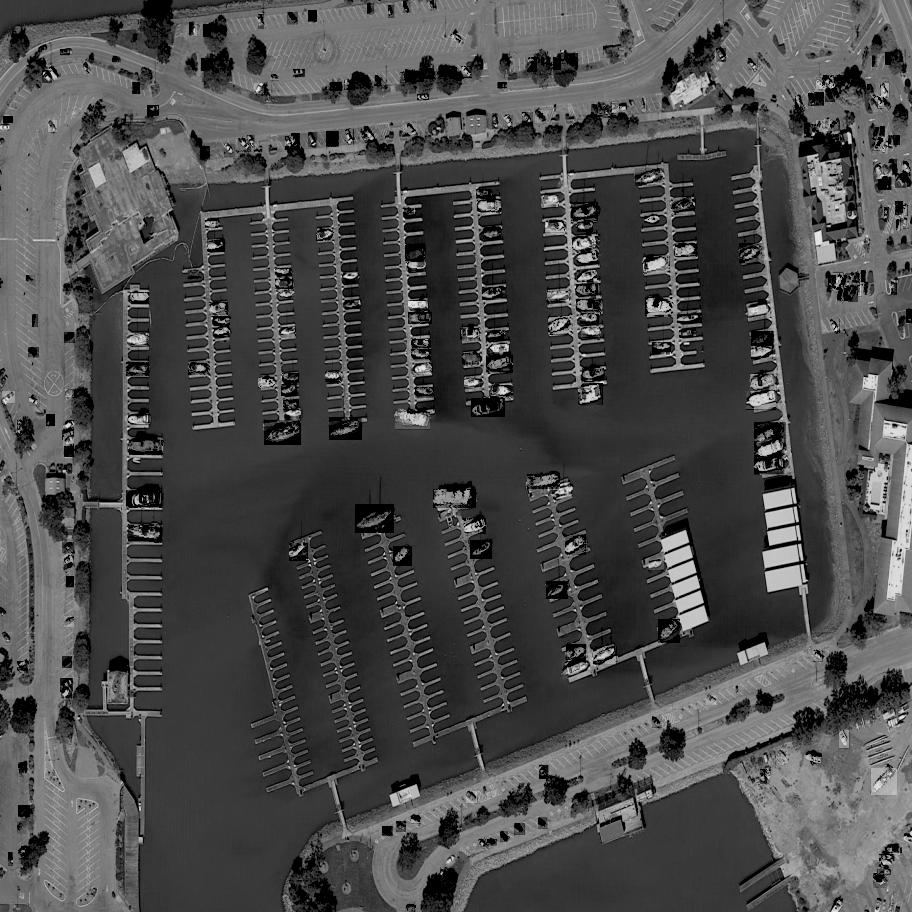large-vehicle: (603, 46, 623, 58), (41, 70, 54, 84), (62, 420, 76, 433), (61, 687, 74, 700), (49, 67, 60, 82), (62, 430, 76, 440), (29, 398, 40, 406)
ship: (354, 504, 397, 535), (264, 420, 302, 446), (329, 417, 364, 441), (754, 422, 787, 447), (433, 489, 476, 508), (870, 767, 898, 795), (470, 398, 506, 418), (128, 524, 163, 544), (755, 438, 786, 460), (126, 490, 163, 508), (395, 411, 430, 430), (746, 392, 779, 411), (738, 243, 765, 265), (634, 168, 665, 187), (560, 660, 591, 679), (645, 297, 674, 317), (657, 620, 682, 643), (579, 384, 604, 407), (754, 458, 786, 475), (571, 203, 599, 222), (642, 256, 670, 275), (486, 355, 514, 374), (469, 540, 495, 560), (593, 646, 618, 666), (547, 316, 573, 335), (526, 475, 561, 489), (750, 375, 777, 393), (572, 236, 599, 254), (565, 536, 588, 556), (464, 518, 489, 536), (563, 645, 589, 662), (393, 547, 414, 568), (545, 581, 569, 599), (671, 197, 695, 215), (751, 332, 774, 350), (129, 441, 162, 453), (288, 543, 310, 561), (405, 245, 427, 262), (675, 243, 698, 259), (127, 362, 151, 376), (127, 333, 149, 348), (408, 312, 432, 324), (490, 386, 512, 399), (209, 303, 229, 317), (316, 228, 336, 242), (478, 200, 501, 212), (577, 270, 598, 283), (482, 287, 503, 300), (872, 873, 889, 889), (751, 347, 773, 359), (576, 300, 600, 311), (188, 364, 210, 376), (652, 343, 672, 356), (207, 240, 227, 253), (483, 228, 502, 241), (460, 328, 480, 340), (577, 252, 598, 263), (541, 195, 560, 207), (582, 369, 604, 379), (411, 350, 431, 361), (281, 385, 299, 397), (415, 364, 433, 376), (275, 279, 294, 290), (462, 353, 481, 364), (804, 754, 823, 765), (839, 730, 850, 749), (677, 314, 700, 323), (279, 289, 296, 301), (214, 327, 231, 339), (581, 314, 599, 325), (487, 330, 505, 341), (416, 388, 434, 399), (578, 220, 594, 232), (582, 328, 601, 338), (130, 292, 149, 302), (548, 292, 569, 301), (283, 400, 300, 411), (283, 374, 300, 385), (777, 749, 790, 763), (577, 285, 597, 294), (546, 222, 564, 232), (129, 415, 149, 424), (258, 378, 276, 388), (412, 340, 430, 350), (648, 561, 665, 571), (464, 379, 480, 389), (213, 317, 230, 326), (490, 345, 509, 353), (326, 372, 341, 382), (477, 190, 491, 200), (880, 860, 894, 870), (409, 301, 426, 309), (345, 300, 360, 309), (407, 263, 426, 270), (343, 273, 358, 281), (645, 215, 659, 223), (281, 328, 295, 336), (879, 855, 895, 862), (285, 411, 302, 417), (205, 220, 217, 228), (761, 769, 767, 784), (679, 331, 693, 337), (877, 869, 891, 875), (886, 848, 902, 853), (275, 270, 290, 275), (404, 208, 414, 214), (767, 767, 770, 779)
small-vehicle: (325, 131, 340, 147), (2, 391, 17, 406), (450, 33, 466, 47), (60, 678, 76, 692), (363, 126, 377, 142), (238, 138, 252, 153), (881, 97, 895, 112), (848, 285, 860, 302), (833, 273, 845, 290), (62, 542, 76, 556), (895, 174, 908, 189), (534, 110, 549, 123), (199, 146, 213, 159), (591, 105, 604, 119), (521, 112, 534, 126), (465, 791, 479, 804), (308, 133, 320, 148), (829, 319, 841, 334), (716, 48, 728, 63), (291, 134, 301, 151), (287, 12, 300, 25), (823, 76, 836, 89), (813, 92, 826, 105), (404, 70, 417, 83), (62, 656, 75, 669), (0, 633, 13, 646), (18, 805, 31, 818), (651, 716, 664, 729), (882, 163, 894, 177), (824, 88, 836, 102), (405, 124, 419, 136), (846, 273, 857, 288), (876, 164, 886, 180), (888, 160, 898, 176), (224, 145, 236, 158), (254, 83, 266, 96), (883, 177, 895, 190), (17, 822, 29, 835), (18, 846, 30, 859), (460, 67, 473, 79), (536, 818, 549, 830), (444, 854, 457, 866), (147, 105, 161, 116), (816, 78, 830, 89), (869, 99, 880, 113), (828, 121, 839, 135), (63, 333, 77, 344), (539, 765, 550, 779), (345, 129, 354, 146), (329, 82, 344, 92), (829, 77, 841, 89), (813, 650, 825, 662), (603, 107, 615, 119), (514, 824, 526, 836), (874, 97, 885, 110), (831, 88, 842, 101), (63, 616, 76, 627), (395, 821, 408, 832), (810, 125, 820, 139), (796, 96, 806, 110), (705, 695, 719, 705), (528, 58, 537, 73), (433, 878, 442, 893), (47, 121, 58, 133), (308, 10, 319, 22), (874, 139, 885, 151), (423, 69, 435, 80), (46, 415, 57, 427), (64, 437, 76, 448), (63, 446, 75, 457), (403, 0, 413, 13), (899, 205, 909, 218), (400, 72, 413, 82), (828, 276, 838, 289), (838, 285, 846, 301), (881, 140, 890, 154), (901, 161, 910, 175), (842, 288, 851, 302), (881, 84, 890, 98), (504, 115, 513, 129), (877, 180, 888, 191), (374, 75, 385, 86), (28, 347, 39, 358), (747, 59, 758, 70), (500, 831, 511, 842), (344, 81, 356, 91), (816, 121, 826, 133), (17, 662, 29, 672), (360, 128, 368, 143), (439, 67, 451, 77), (478, 839, 490, 849), (286, 137, 295, 150), (873, 128, 882, 141), (867, 84, 876, 97), (63, 563, 76, 572), (895, 202, 903, 216), (492, 113, 499, 129), (414, 71, 425, 81), (132, 82, 141, 94), (203, 25, 212, 37), (841, 275, 850, 287), (382, 827, 394, 836), (805, 123, 812, 138), (905, 309, 912, 324), (809, 93, 817, 106), (598, 103, 606, 116), (246, 136, 256, 146), (449, 70, 459, 80), (66, 577, 75, 588), (65, 390, 76, 399), (189, 22, 196, 36), (258, 15, 265, 29), (571, 53, 578, 67), (555, 57, 562, 71), (293, 69, 305, 77), (885, 53, 893, 65), (410, 816, 422, 824), (26, 276, 36, 285), (367, 4, 375, 15), (837, 75, 845, 86), (406, 904, 418, 911), (904, 215, 910, 229), (561, 51, 568, 63), (891, 279, 896, 295), (65, 556, 75, 564), (417, 94, 430, 100), (824, 120, 830, 133), (3, 116, 14, 123), (19, 769, 30, 776), (617, 105, 628, 112), (82, 63, 90, 72), (389, 6, 395, 18), (896, 219, 902, 231), (32, 315, 38, 327), (894, 136, 901, 146), (18, 763, 28, 770), (855, 273, 860, 286), (8, 852, 13, 865), (270, 74, 279, 81), (430, 0, 436, 10), (61, 50, 71, 56), (865, 282, 870, 294), (873, 55, 878, 67), (488, 840, 498, 846), (206, 58, 211, 69), (440, 867, 445, 878), (885, 208, 889, 221), (18, 421, 22, 434), (642, 99, 646, 112), (889, 136, 893, 147), (201, 59, 205, 70), (497, 83, 507, 87), (612, 103, 616, 113), (880, 127, 884, 136), (194, 25, 197, 36), (862, 271, 865, 282), (859, 285, 861, 296), (112, 59, 119, 62)
